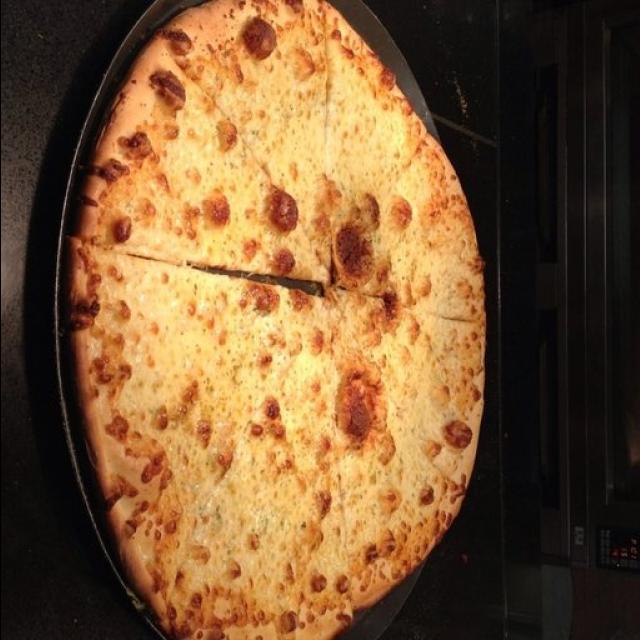pizza: (66, 0, 490, 640)
